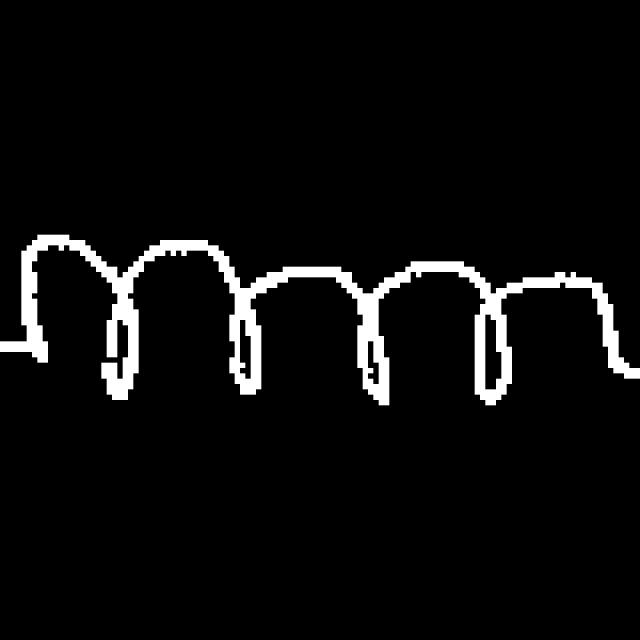inductor: (18, 223, 614, 442)
